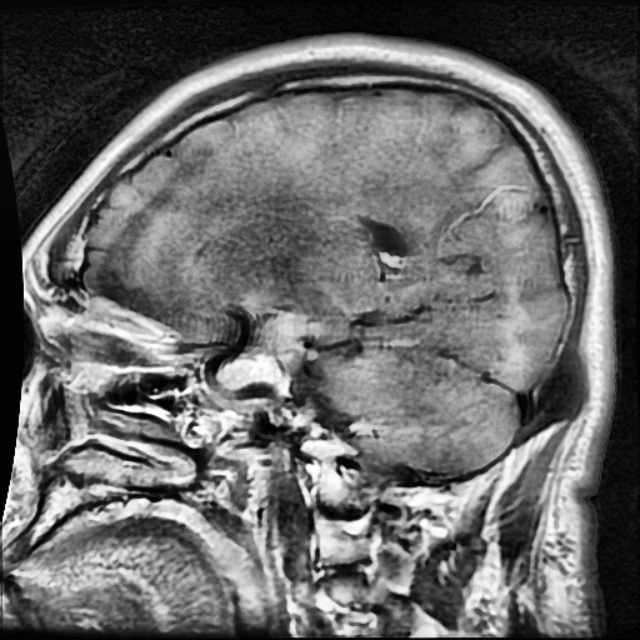Pituitary: (210, 302, 323, 394)
